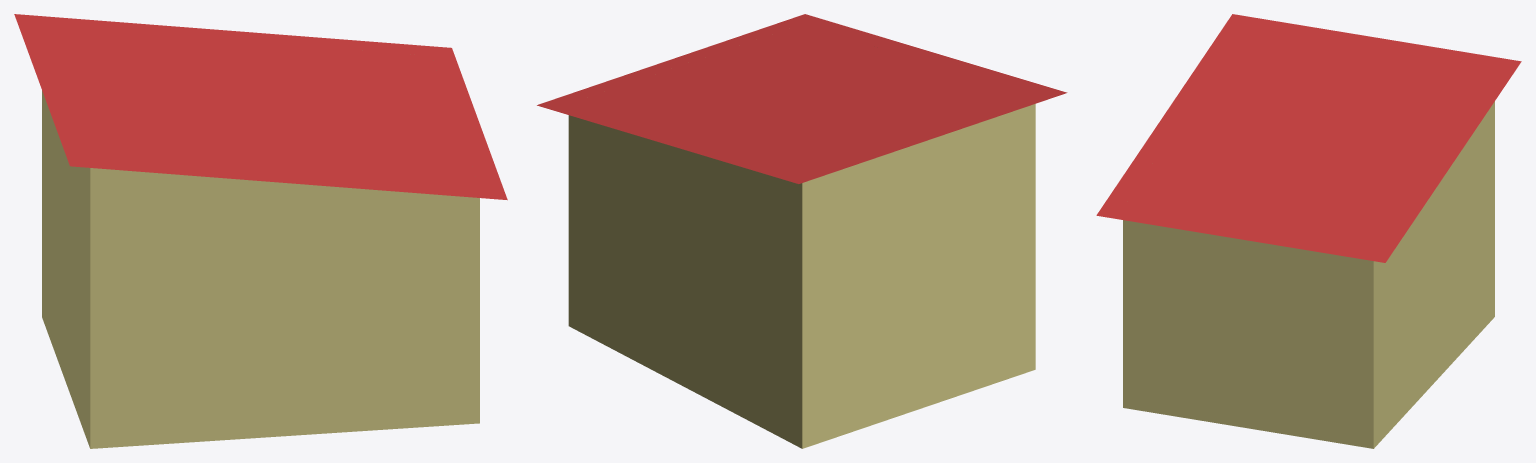
3 views of the same model, side by side, from view 1: azimuth 30°, elevation 25°; view 2: azimuth 150°, elevation 25°; view 3: azimuth 270°, elevation 25° (orthographic). The views are drawn at different scales.
Size of the model in its own units: 11.23 by 10.31 by 6.69.
